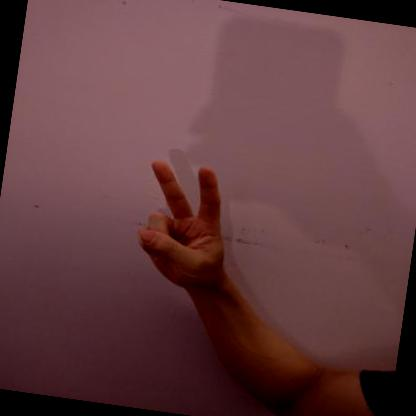V: (137, 160, 225, 291)
